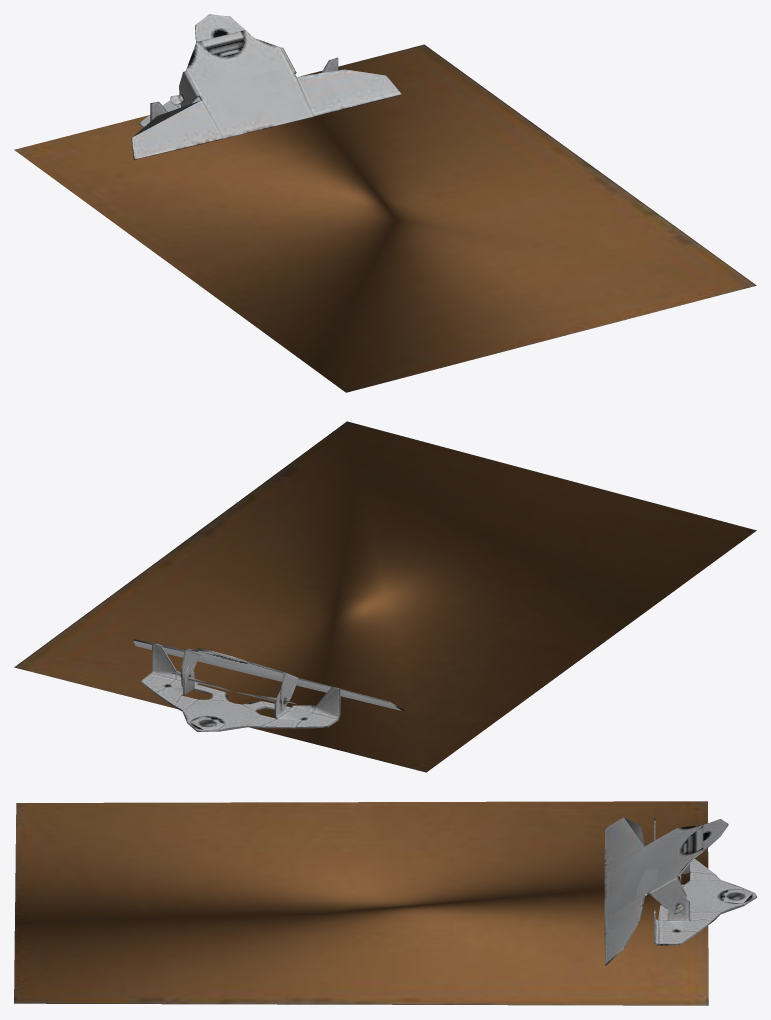
Rendered from clipboard.glb.
The picture shows the model from 3 angles, top to bottom: view 1: azimuth 30°, elevation 25°; view 2: azimuth 150°, elevation 25°; view 3: azimuth 270°, elevation 25°; orthographic projection. The views are drawn at different scales.
Parts seen in each view (by area): view 1: clipboard; view 2: clipboard; view 3: clipboard.
Boxes of the visible parts, <box> form: clipboard: <box>14,14,756,392</box>; clipboard: <box>14,421,756,772</box>; clipboard: <box>14,801,756,1005</box>.
Size of the model in its own units: 0.2232 by 0.0414 by 0.3342.
Materials: 1 (1 with a texture image).
